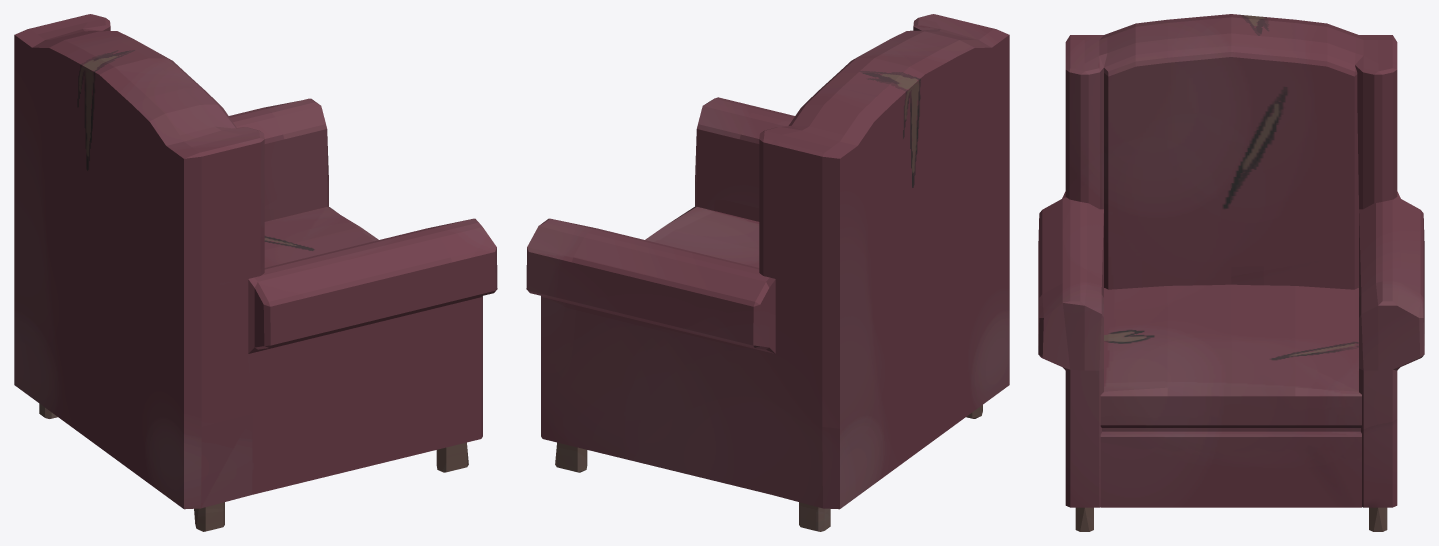
Rendered from Sillon.fbx.
3 renders of one model, left to right at view 1: azimuth 30°, elevation 25°; view 2: azimuth 150°, elevation 25°; view 3: azimuth 270°, elevation 25°, orthographic. The views are drawn at different scales.
Parts seen in each view (by area): view 1: Sillon.001; view 2: Sillon.001; view 3: Sillon.001.
Boxes of the visible parts, <box> form: Sillon.001: <box>14,14,497,531</box>; Sillon.001: <box>526,14,1009,531</box>; Sillon.001: <box>1038,14,1424,531</box>.
Bounding box in the file's own units: 258 × 337 × 303.
Materials: 1 (1 with a texture image).
